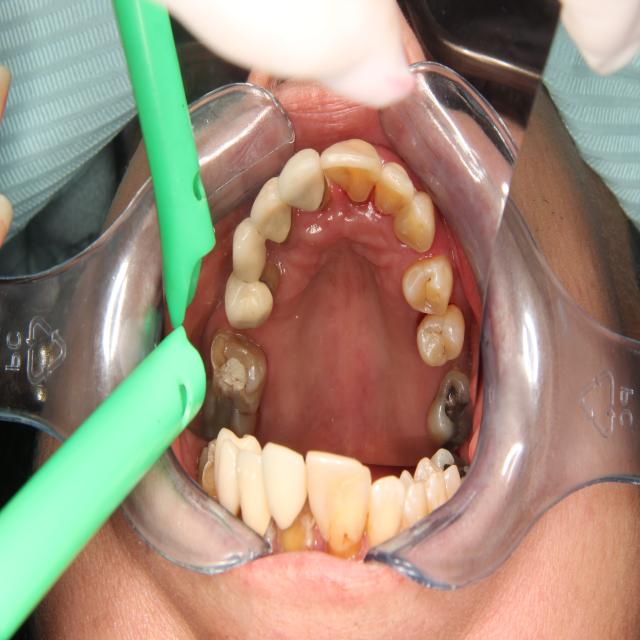tooth: (203, 322, 272, 420), (323, 122, 383, 220), (420, 360, 479, 456), (197, 374, 263, 454), (220, 260, 281, 339), (389, 178, 441, 266), (400, 244, 457, 322), (275, 139, 329, 218), (246, 173, 296, 252), (412, 300, 467, 371), (225, 210, 270, 289), (371, 153, 417, 229)
